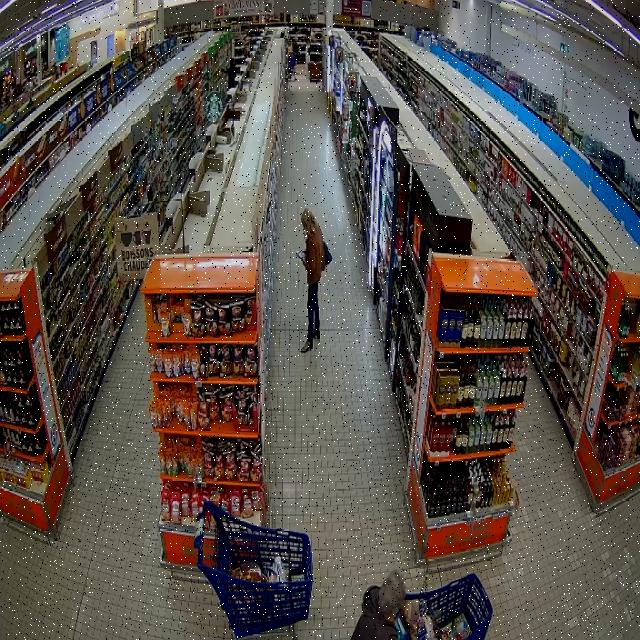article: (295, 250, 305, 260)
bags: (324, 241, 332, 264)
person: (300, 208, 326, 352), (351, 571, 405, 639)
